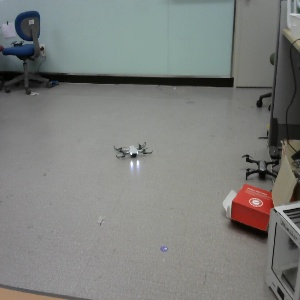Drone: (112, 138, 153, 165)
